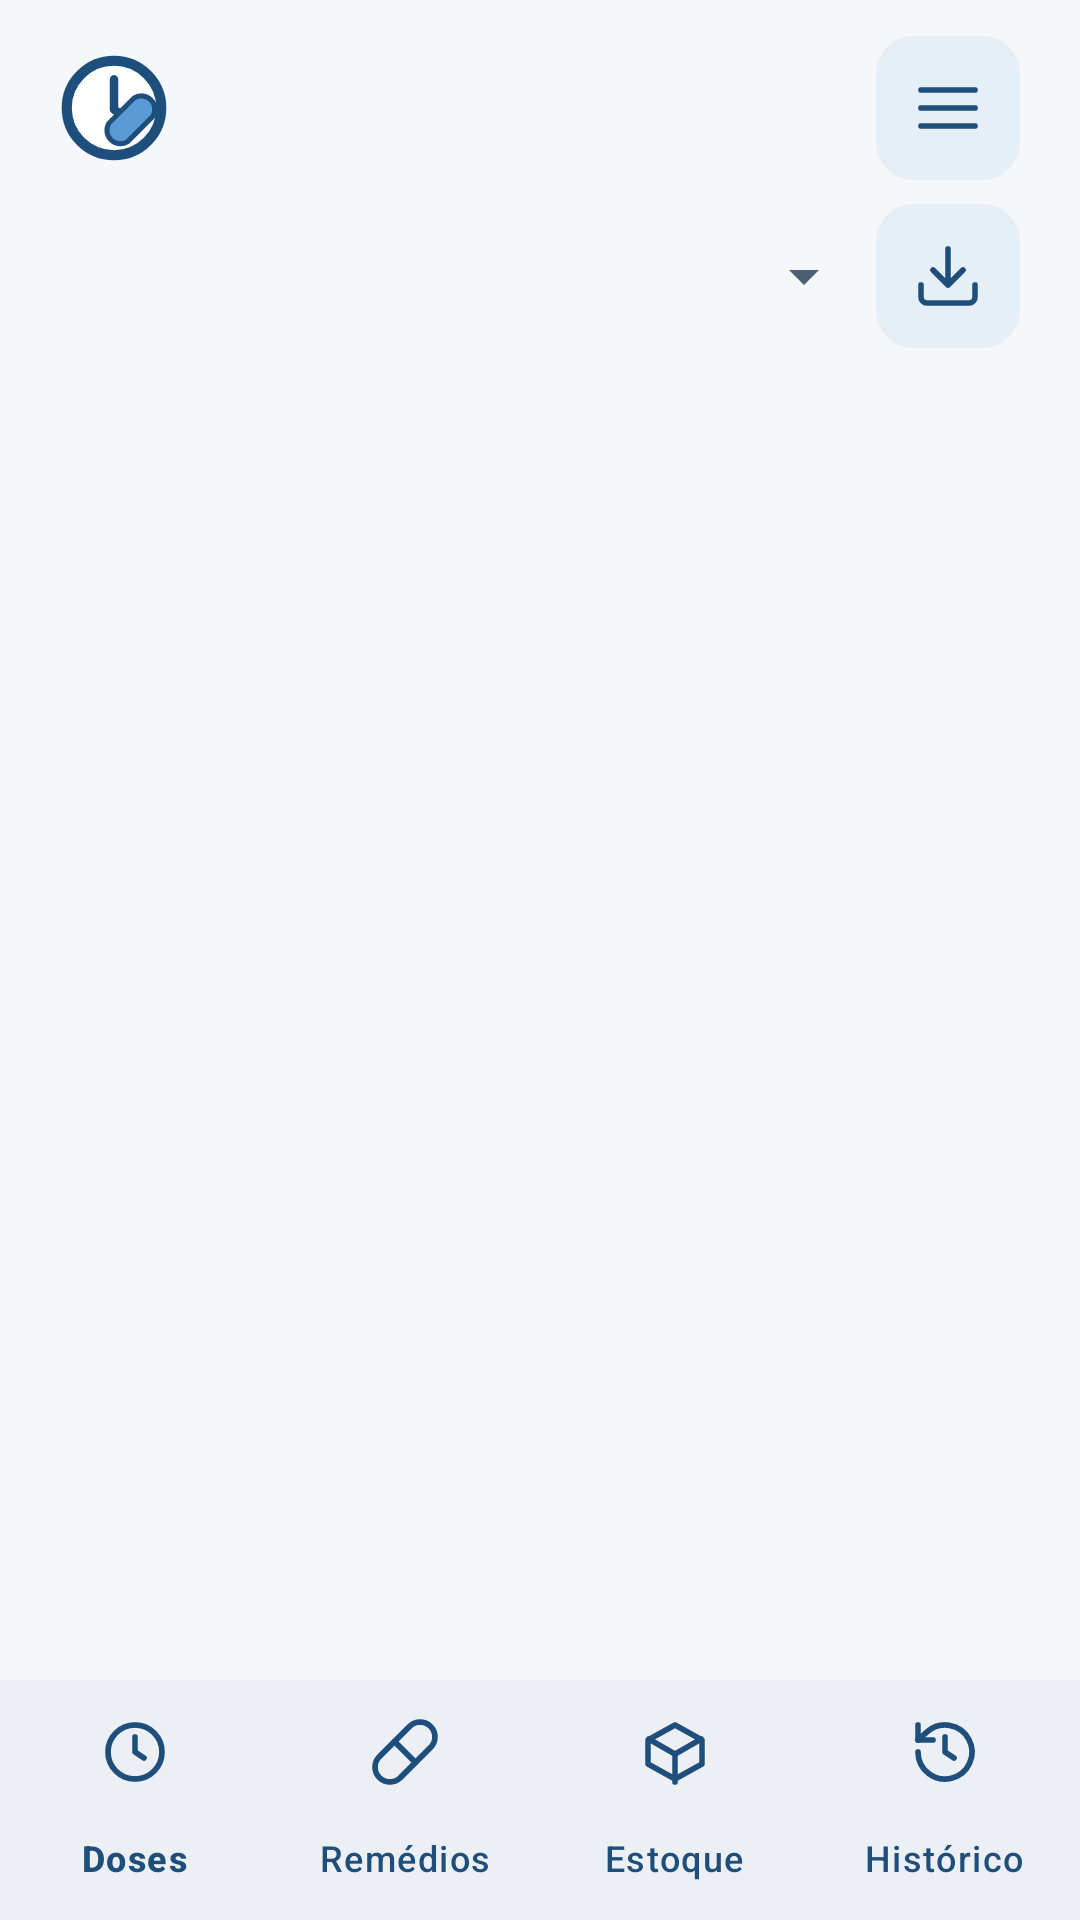

Icons on this 1080 × 1920 Android screen, each with its box as Rect(x1, y1, x2, y2):
Abrir menu: Rect(876, 36, 1020, 180)
Exportar histórico (CSV): Rect(876, 204, 1020, 348)
